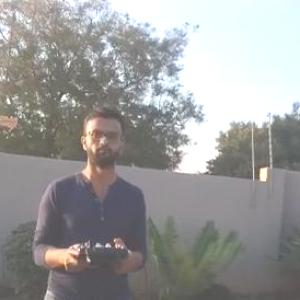follow: (24, 94, 153, 299)
